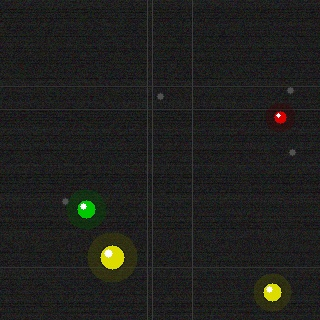green_normal: (75, 198, 97, 220)
red_fault: (272, 109, 288, 125)
yellow_warning: (98, 243, 126, 271), (261, 281, 283, 303)
